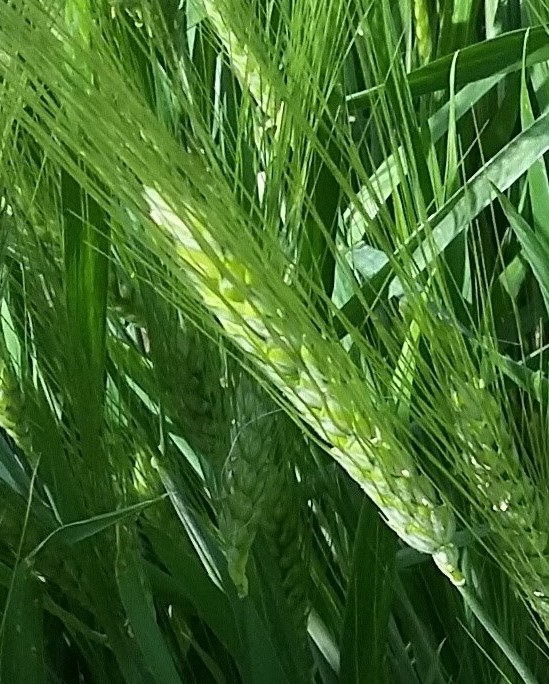Healthy Wheat: (138, 163, 444, 570)
